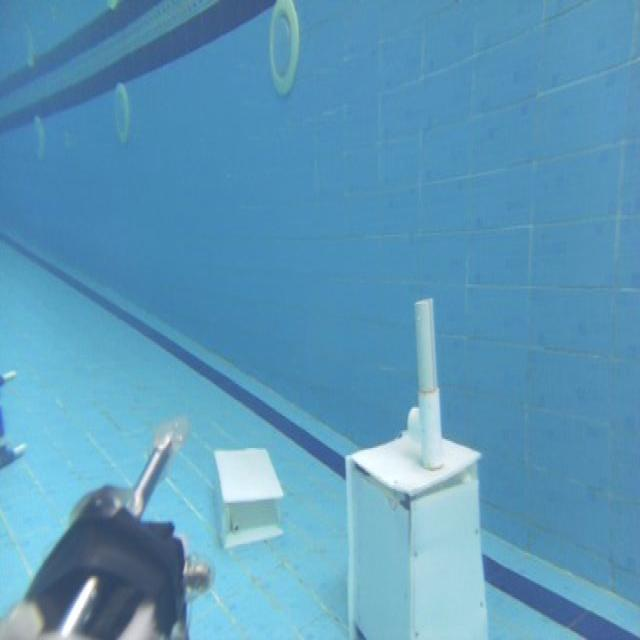Cube: (341, 428, 491, 640)
Cuboid: (212, 444, 284, 548)
